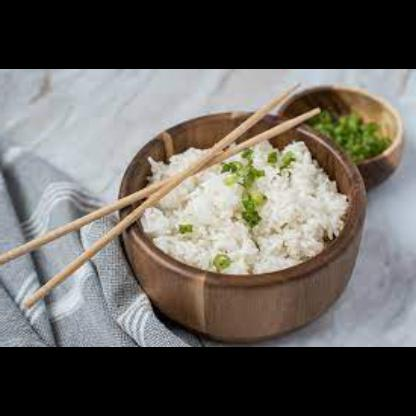white rice: (141, 140, 349, 272)
